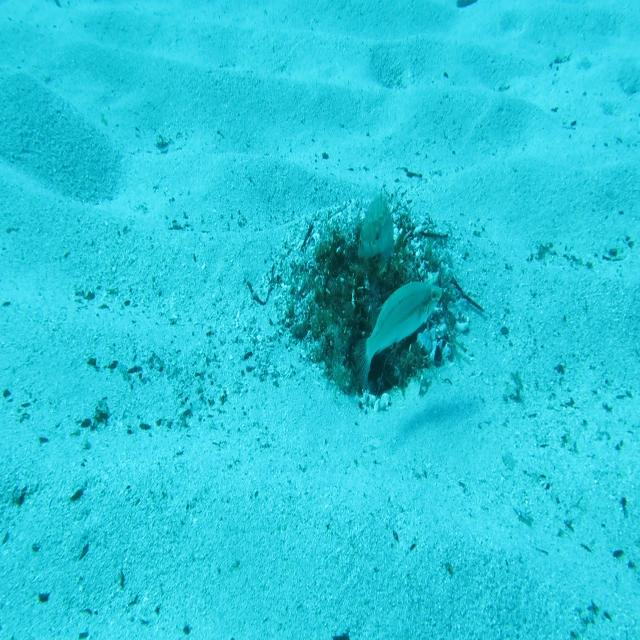INSF: (356, 186, 396, 266)
core_nest: (342, 240, 402, 288)
female: (352, 279, 444, 394)
nest: (276, 191, 489, 431)
vegetation: (454, 0, 482, 12)
